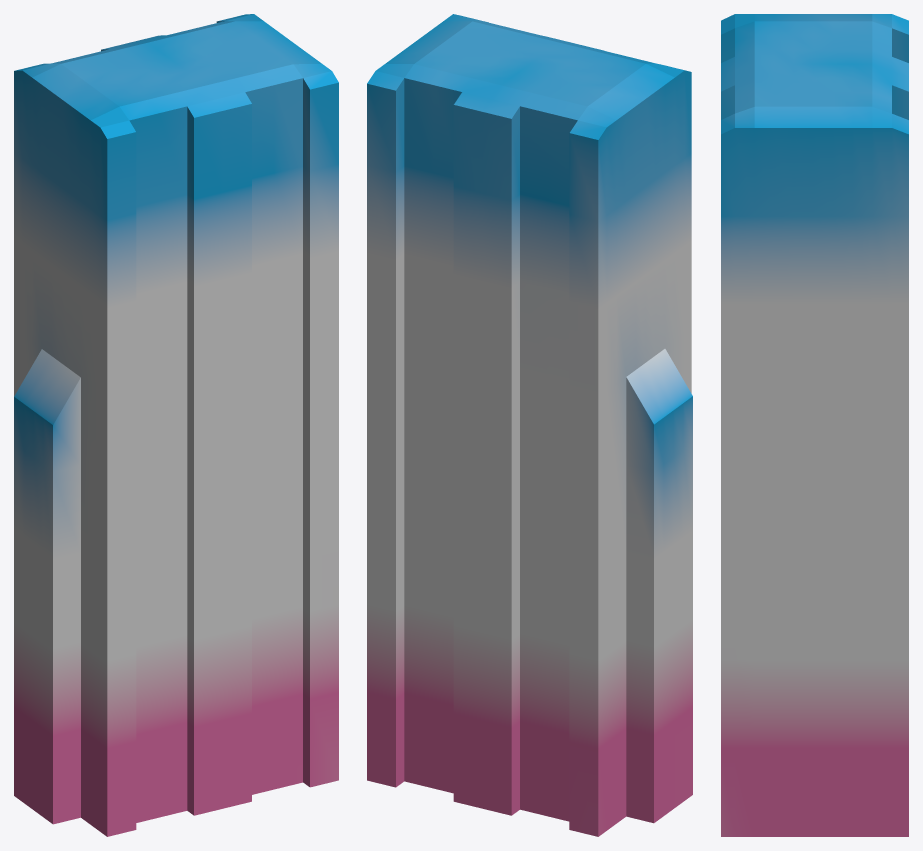
Rendered from wab2.fbx.
3 views of the same model, side by side, from view 1: azimuth 30°, elevation 25°; view 2: azimuth 150°, elevation 25°; view 3: azimuth 270°, elevation 25° (orthographic).
Parts seen in each view (by area): view 1: Cube; view 2: Cube; view 3: Cube.
Part boxes in pixels (x1,y1,x2,y2): Cube: (14,14,338,836); Cube: (367,14,692,836); Cube: (721,14,908,836).
Size of the model in its own units: 385 by 1007 by 239.
